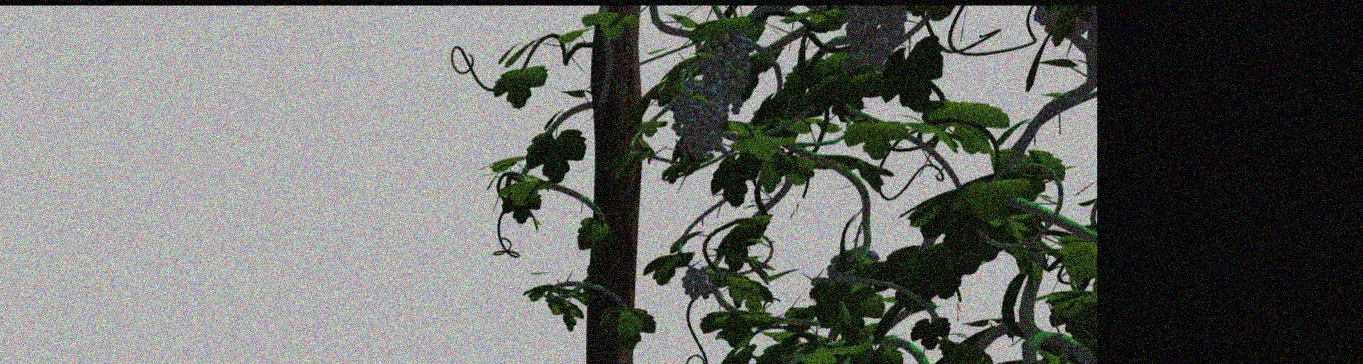grape: (694, 29, 753, 115), (841, 7, 910, 72), (668, 85, 723, 164), (681, 266, 715, 302)
